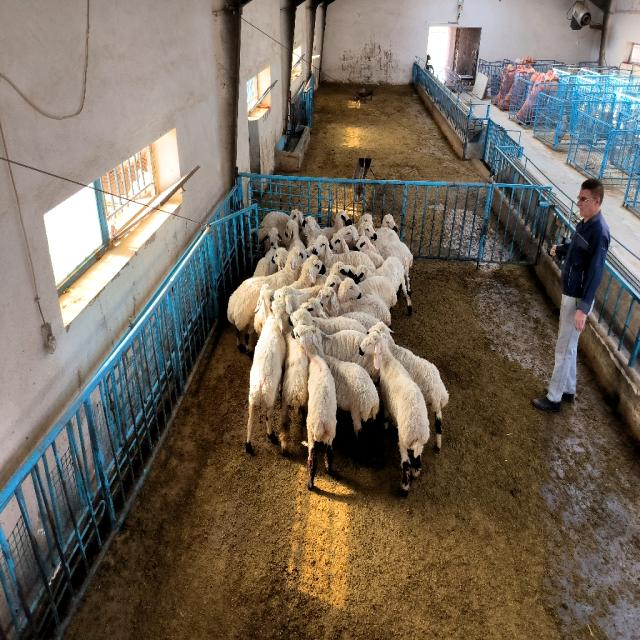sheep: (290, 308, 379, 438), (360, 330, 429, 495), (370, 323, 449, 449), (228, 248, 302, 353), (294, 325, 338, 488), (245, 283, 286, 452), (356, 235, 412, 312), (280, 332, 309, 454), (355, 257, 411, 312), (318, 287, 390, 326), (308, 235, 374, 271), (290, 308, 366, 335), (259, 208, 302, 243), (254, 227, 280, 277), (289, 255, 324, 290), (359, 277, 396, 308), (322, 210, 351, 240), (338, 277, 361, 305), (286, 220, 305, 251), (302, 217, 322, 246), (330, 233, 350, 254), (334, 210, 352, 232), (358, 222, 378, 239), (325, 275, 341, 292), (381, 215, 398, 231)
